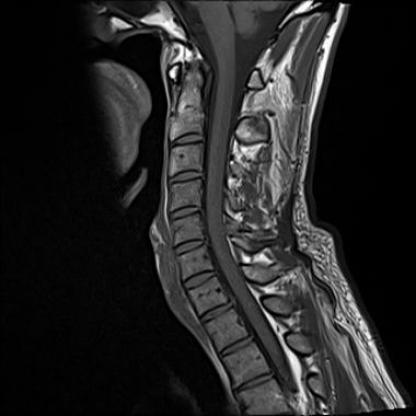Disc Protrusionrotation: (166, 168, 205, 186), (195, 305, 237, 321)
Osteophytesrotation: (166, 168, 205, 186)
